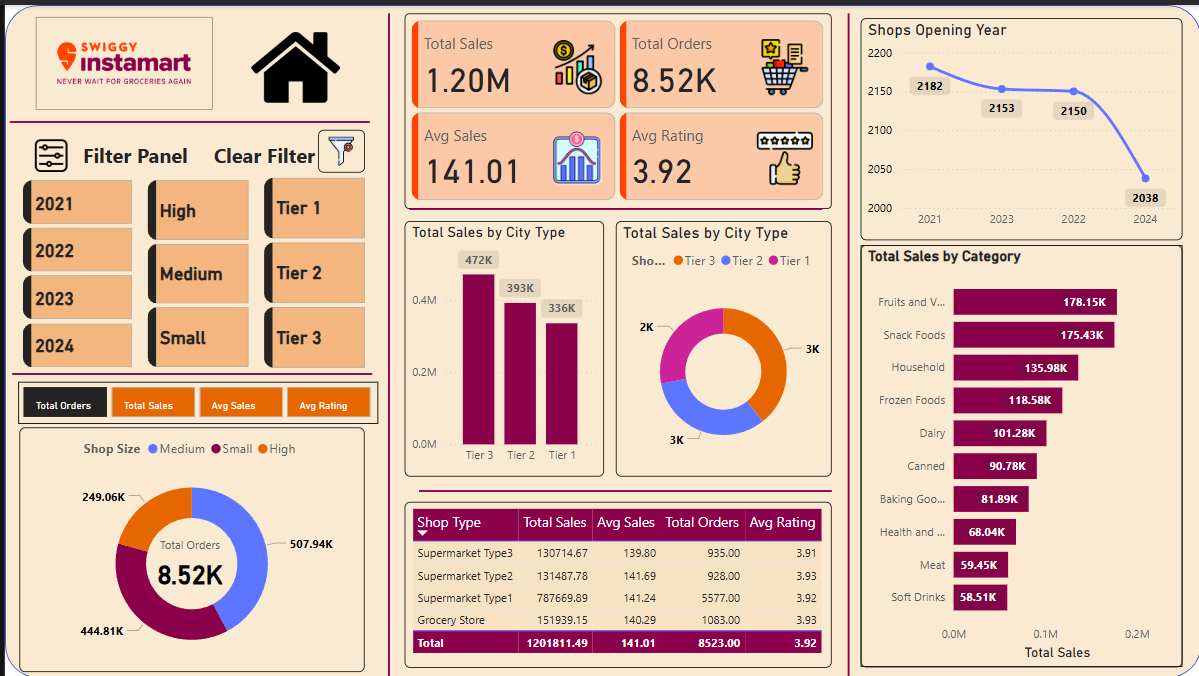

The dashboard page shown, as its layout file describes it:
{"tool":"powerbi","page":{"name":"INSTA MART DASHBOARD","canvas":[1280,720],"ordinal":0},"visuals":[{"type":"shape","box":[0,0,1279.4,719.9],"z":0},{"type":"image","box":[15.4,7.7,224.6,109.1],"z":1000},{"type":"cardVisual","fields":{"Data":["Grocery Shop.Total_sales","Grocery Shop.Total_orders","Grocery Shop.avg_sales","Grocery Shop.avg_rating"]},"box":[427.3,9,456.8,209.2],"z":2000},{"type":"donutChart","fields":{"Category":["Grocery Shop.Shop Size"],"Y":["Grocery Shop.Total Sales"]},"box":[15.4,451.7,369.6,261.8],"z":3000},{"type":"cardVisual","fields":{"Data":["Grocery Shop.Total Orders"]},"box":[130.9,537.7,134.7,118.1],"z":4000},{"type":"clusteredColumnChart","title":"Total Sales by City Type","fields":{"Y":["Grocery Shop.Total Sales"],"Category":["Grocery Shop.Shop City Type"]},"box":[427.3,231,213,273.3],"z":5000},{"type":"advancedSlicerVisual","fields":{"Values":["Parameter.Parameter"]},"box":[14.1,402.9,385,44.9],"z":6000},{"type":"donutChart","title":"Total Sales by City Type","fields":{"Category":["Grocery Shop.Shop City Type"],"Y":["Grocery Shop.Total Orders"]},"box":[653.2,231,231,273.3],"z":7000},{"type":"tableEx","fields":{"Values":["Grocery Shop.Shop Type","Grocery Shop.Total Sales","Grocery Shop.Avg Sales","Grocery Shop.Total Orders","Grocery Shop.Avg Rating"]},"box":[427.3,531.3,456.8,177.1],"z":8000},{"type":"lineChart","title":"Shops Opening Year","fields":{"Category":["Grocery Shop.Shop Opening Year"],"Y":["Grocery Shop.Total Orders"]},"box":[914.9,14.1,343.9,237.4],"z":9000},{"type":"clusteredBarChart","fields":{"Y":["Grocery Shop.Total Sales"],"Category":["Grocery Shop.Category"]},"box":[914.9,256.6,343.9,451.7],"z":10000},{"type":"advancedSlicerVisual","fields":{"Values":["Grocery Shop.Shop Opening Year"]},"box":[14.1,182.2,127,211.7],"z":11000},{"type":"advancedSlicerVisual","fields":{"Values":["Grocery Shop.Shop Size"]},"box":[147.6,182.2,118.1,211.7],"z":12000},{"type":"advancedSlicerVisual","fields":{"Values":["Grocery Shop.Shop City Type"]},"box":[272,179.7,118.1,214.3],"z":13000},{"type":"textbox","box":[37.2,141.2,179.7,39.8],"z":14000},{"type":"image","box":[24.4,138.6,50,44.9],"z":15000},{"type":"textbox","box":[218.1,141.2,151.4,42.3],"z":16000},{"type":"image","box":[256.6,14.1,107.8,105.2],"z":17000},{"type":"shape","box":[5.1,115.5,385,19.2],"z":18000},{"type":"shape","box":[7.7,376,385,37.2],"z":19000},{"type":"shape","box":[390.1,9,41.1,710.9],"z":20000},{"type":"shape","box":[880.3,9,43.6,710.9],"z":21000},{"type":"shape","box":[432.4,195.1,441.4,46.2],"z":22000},{"type":"shape","box":[442.7,501.7,441.4,35.9],"z":23000},{"type":"image","box":[334.9,133.5,50,46.2],"z":24000}]}

Visuals, with their boxes in screenshot pixels (x1, y1, x2, y2), scaled from the page's 1280x720 canvas onto the 1199x676 screenshot:
shape: [left=0, top=0, right=1198, bottom=675]
image: [left=14, top=7, right=225, bottom=110]
cardVisual - Grocery Shop.Total_sales x Grocery Shop.Total_orders: [left=400, top=8, right=828, bottom=205]
donutChart - Grocery Shop.Shop Size x Grocery Shop.Total Sales: [left=14, top=424, right=361, bottom=670]
cardVisual - Grocery Shop.Total Orders: [left=123, top=505, right=249, bottom=616]
"Total Sales by City Type" clusteredColumnChart: [left=400, top=217, right=600, bottom=473]
advancedSlicerVisual - Parameter.Parameter: [left=13, top=378, right=374, bottom=420]
"Total Sales by City Type" donutChart: [left=612, top=217, right=828, bottom=473]
tableEx - Grocery Shop.Shop Type x Grocery Shop.Total Sales: [left=400, top=499, right=828, bottom=665]
"Shops Opening Year" lineChart: [left=857, top=13, right=1179, bottom=236]
clusteredBarChart - Grocery Shop.Total Sales x Grocery Shop.Category: [left=857, top=241, right=1179, bottom=665]
advancedSlicerVisual - Grocery Shop.Shop Opening Year: [left=13, top=171, right=132, bottom=370]
advancedSlicerVisual - Grocery Shop.Shop Size: [left=138, top=171, right=249, bottom=370]
advancedSlicerVisual - Grocery Shop.Shop City Type: [left=255, top=169, right=365, bottom=370]
textbox: [left=35, top=133, right=203, bottom=170]
image: [left=23, top=130, right=70, bottom=172]
textbox: [left=204, top=133, right=346, bottom=172]
image: [left=240, top=13, right=341, bottom=112]
shape: [left=5, top=108, right=365, bottom=126]
shape: [left=7, top=353, right=368, bottom=388]
shape: [left=365, top=8, right=404, bottom=675]
shape: [left=825, top=8, right=865, bottom=675]
shape: [left=405, top=183, right=819, bottom=227]
shape: [left=415, top=471, right=828, bottom=505]
image: [left=314, top=125, right=361, bottom=169]
